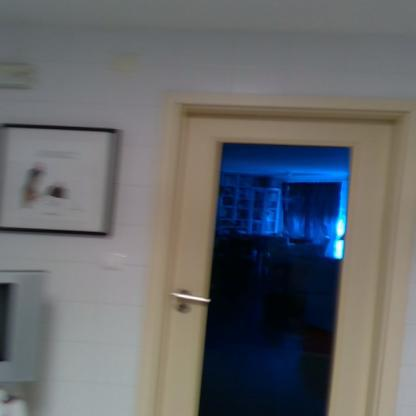door: (158, 116, 381, 416)
lever: (170, 290, 212, 308)
